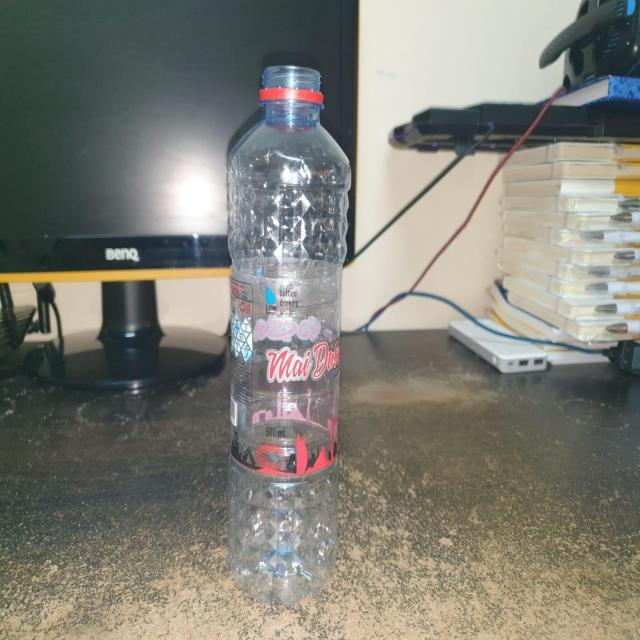bottle: (208, 52, 352, 611)
